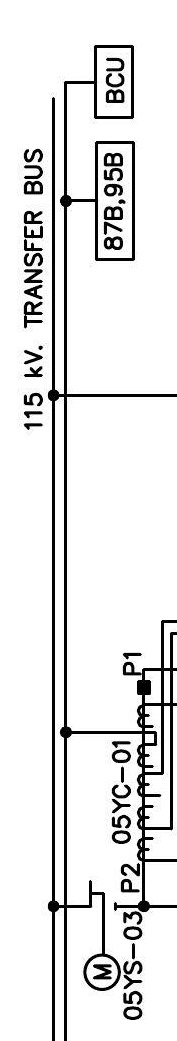115_1way_ds_w_motor: (82, 879, 122, 992)
BCU: (93, 44, 135, 120)
